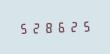eight: (42, 20, 53, 34)
five: (17, 21, 28, 34), (78, 19, 89, 32)
six: (54, 20, 65, 33)
two: (29, 20, 40, 34), (66, 19, 77, 33)
